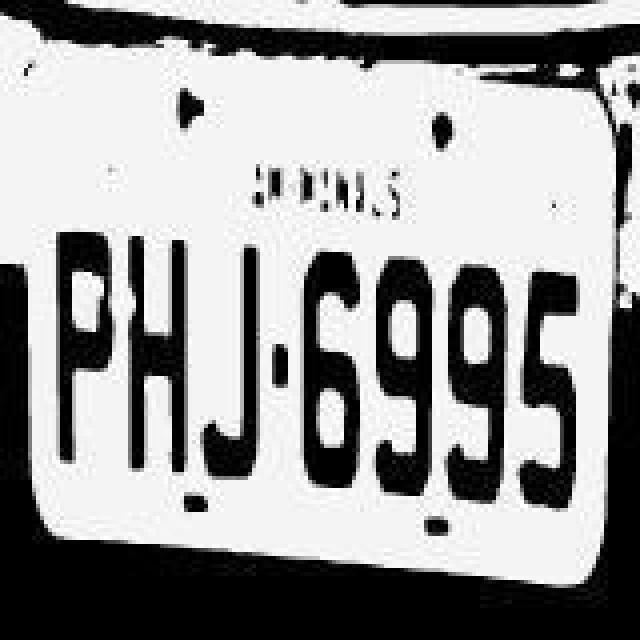5: (516, 270, 588, 514)
6: (302, 250, 370, 502)
9: (374, 246, 442, 514), (446, 258, 514, 510)
H: (120, 222, 200, 482)
J: (200, 232, 280, 488)
P: (48, 224, 120, 488)
